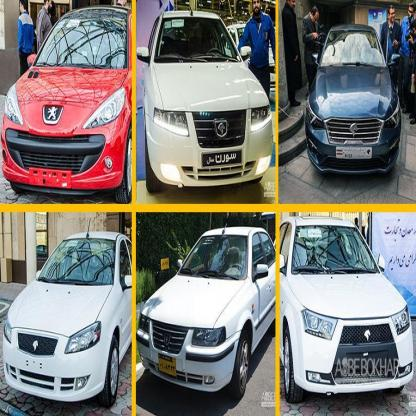Car: (280, 203, 415, 416), (138, 0, 275, 200), (137, 216, 275, 414), (0, 215, 132, 416), (0, 0, 131, 202), (306, 25, 399, 180)
